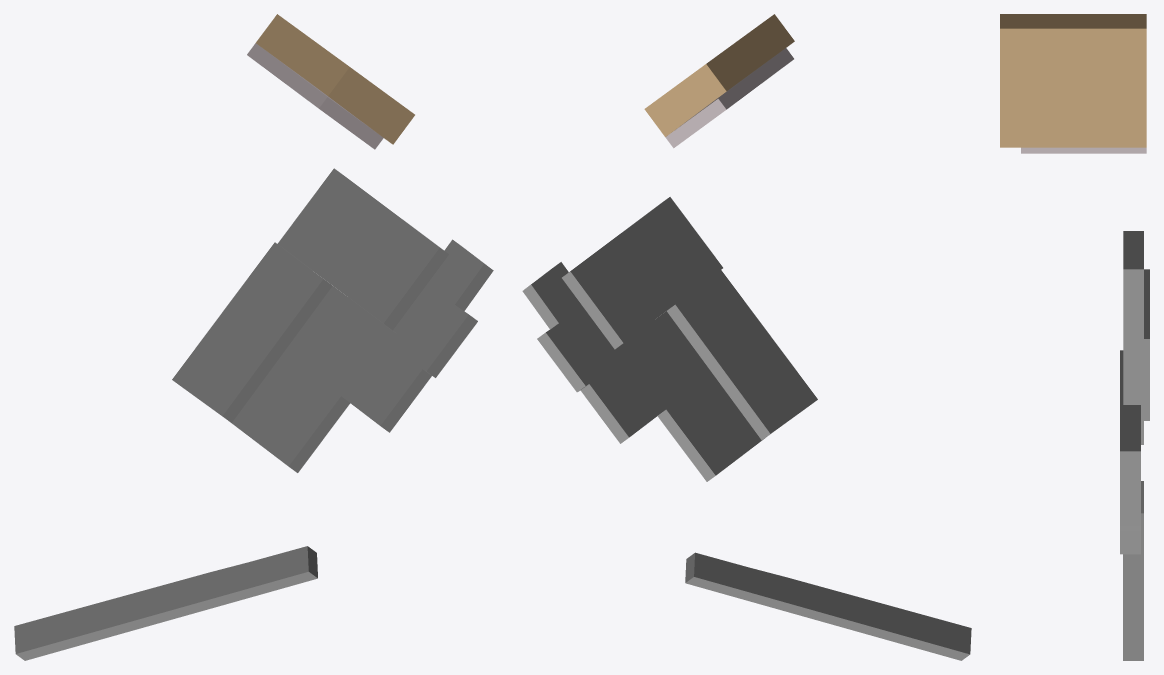
3 views of the same model, side by side, from view 1: azimuth 30°, elevation 25°; view 2: azimuth 150°, elevation 25°; view 3: azimuth 270°, elevation 25° (orthographic). The views are drawn at different scales.
Parts seen in each view (by area): view 1: 0_1_2_0_0_2_1_1; view 2: 0_1_2_0_0_2_1_1; view 3: 0_1_2_0_0_2_1_1.
Boxes of the visible parts, bbox=[...] form: 0_1_2_0_0_2_1_1: bbox=[14, 14, 493, 660]; 0_1_2_0_0_2_1_1: bbox=[522, 14, 971, 660]; 0_1_2_0_0_2_1_1: bbox=[1000, 14, 1149, 660].
Size of the model in its own units: 86.68 by 102 by 21.47.
